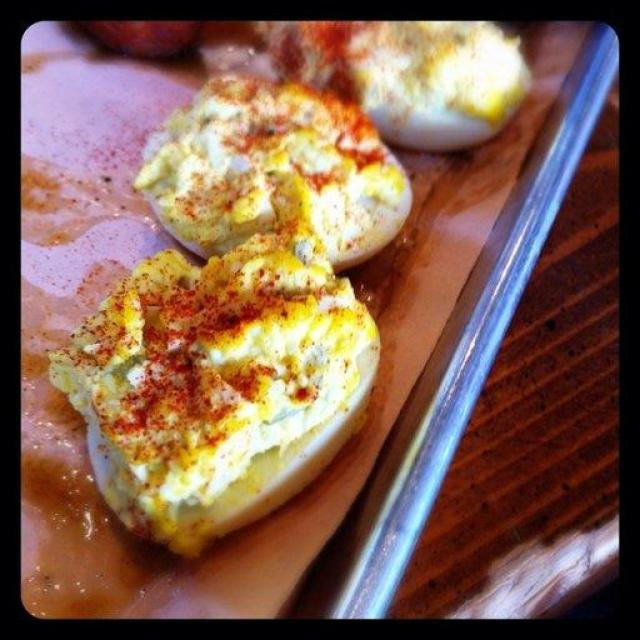food_waste: (89, 247, 394, 546), (147, 46, 427, 276), (215, 4, 566, 144)
